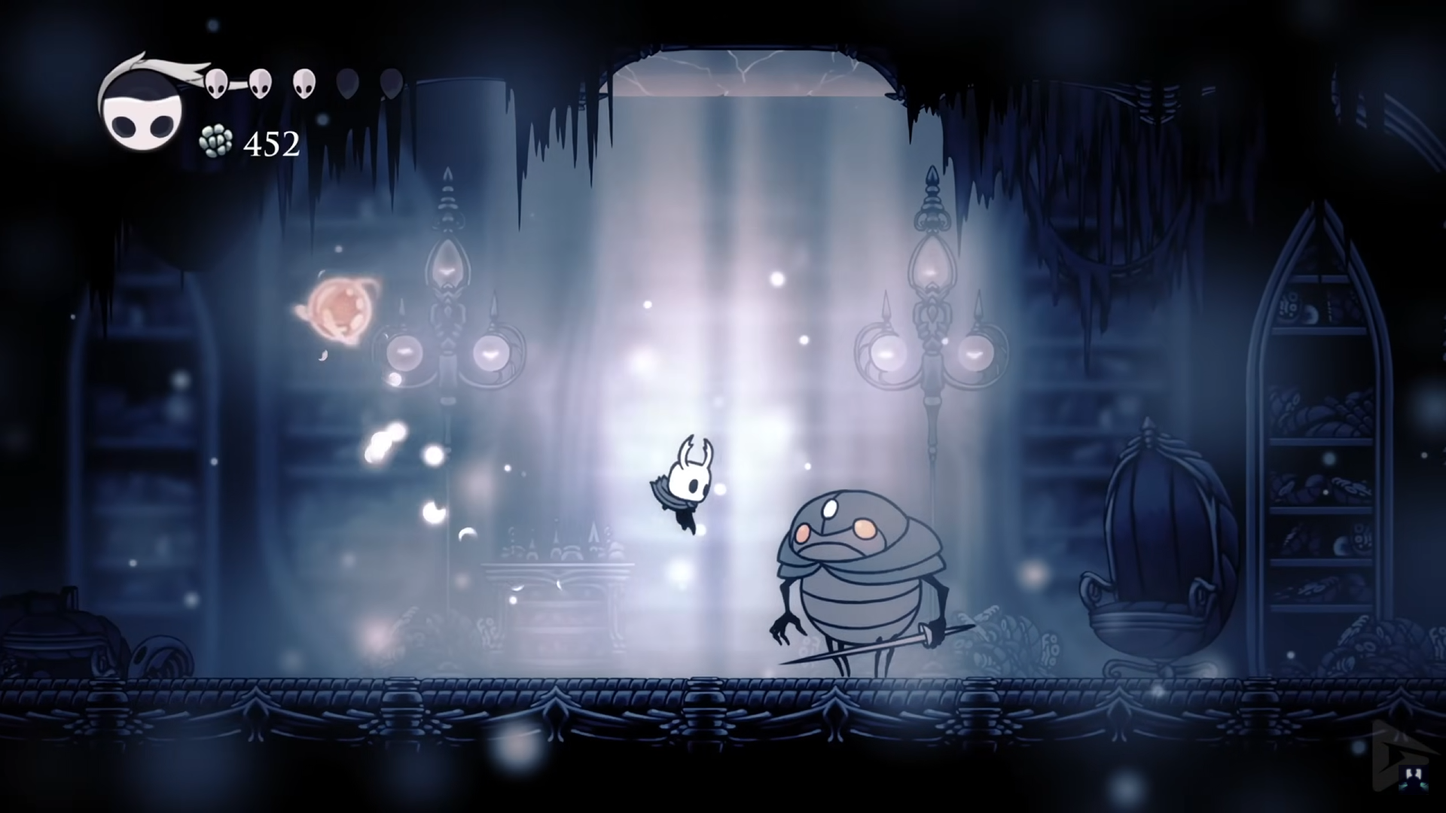HK: (650, 434, 718, 536)
